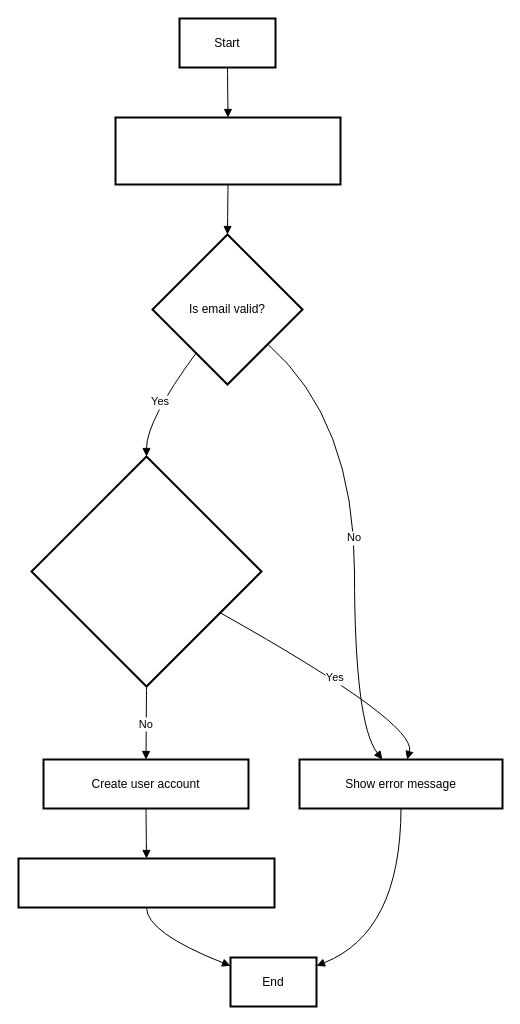
Some shapes in this 520 by 1024 pixel diagram are drawn without their labels. The shapes that lost their labels are listed below. From the top down, each one's centre as x and y in pixels, then its label:
At (x=227, y=150): "Admin inputs new user details".
At (x=146, y=571): "Does email already exist?".
At (x=146, y=882): "Send confirmation message".
